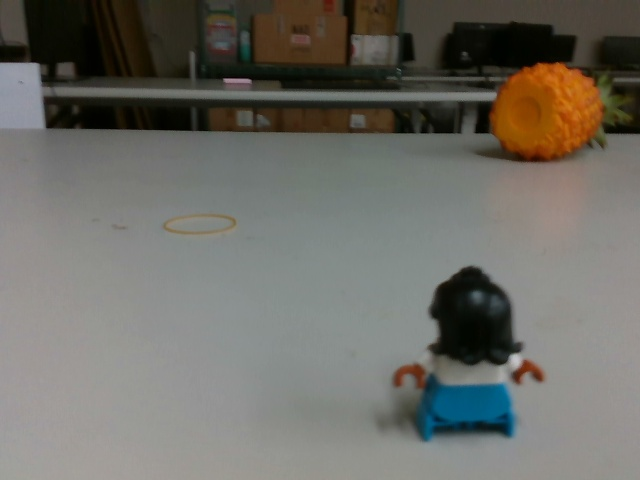people: (392, 256, 547, 443)
